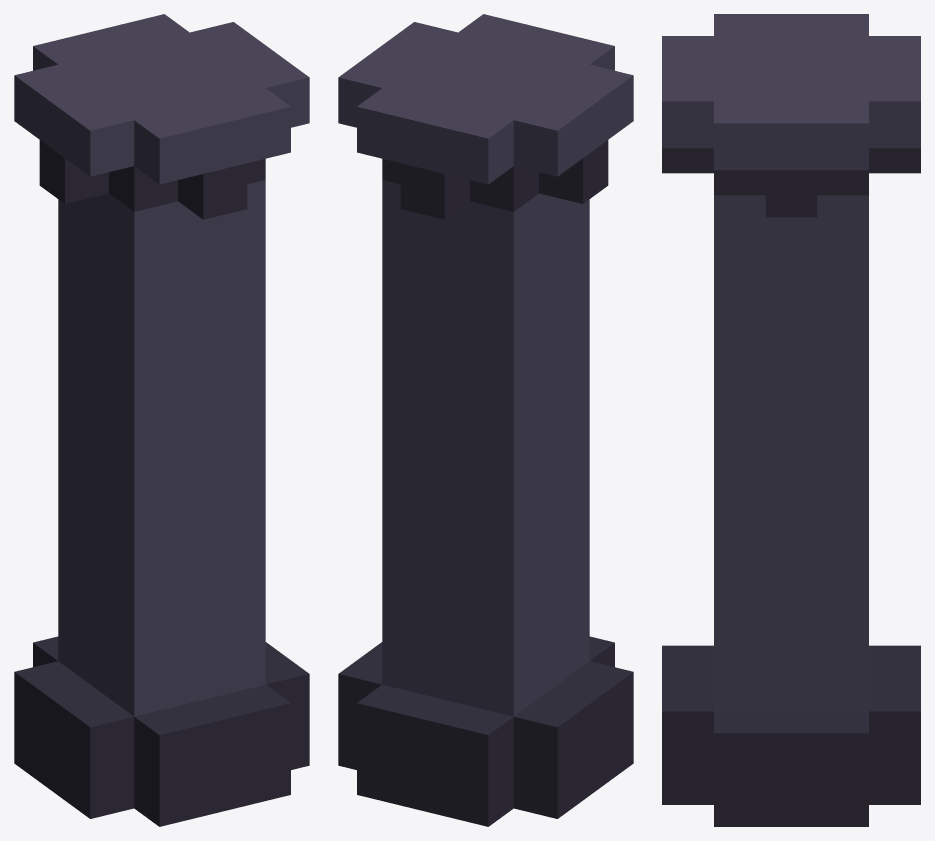
Rendered from pillar.glb.
3 renders of one model, left to right at view 1: azimuth 30°, elevation 25°; view 2: azimuth 150°, elevation 25°; view 3: azimuth 270°, elevation 25°, orthographic. The views are drawn at different scales.
Parts seen in each view (by area): view 1: pillar; view 2: pillar; view 3: pillar.
Part boxes in pixels (x1,y1,x2,y2): pillar: (14, 14, 309, 826); pillar: (338, 14, 633, 826); pillar: (662, 14, 920, 826).
Size of the model in its own units: 0.5 by 1.5 by 0.5.
